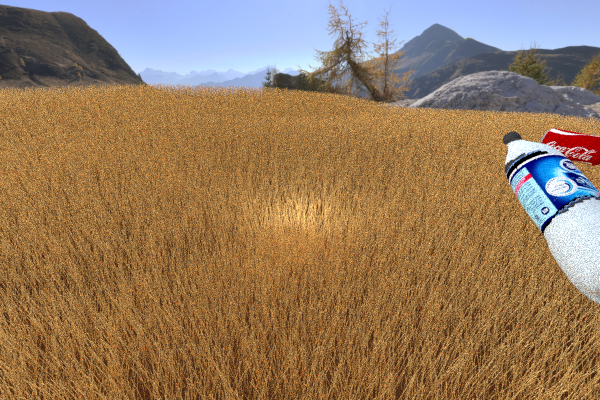bottle: (502, 131, 600, 310)
can: (538, 128, 600, 165)
